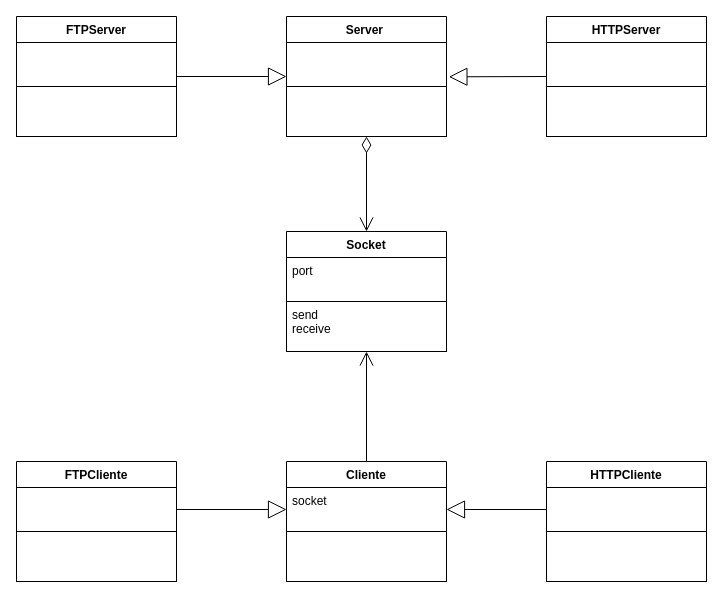
This 723x598 diagram has some shape labels left out. Here are the shapes that lost their labels. From the top down, the centre of each, then its label:
At point (366, 64): "pool active".
At point (366, 111): "accept broadcast".
At point (96, 556): "transfer".
At point (366, 556): "connect".
At point (626, 556): "authenticate".
